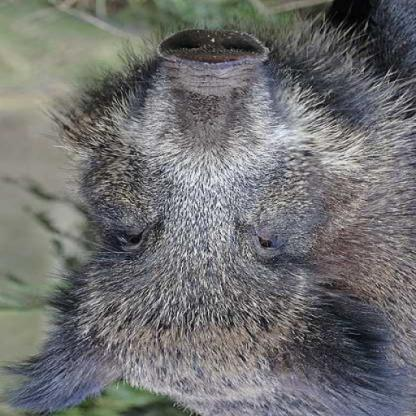boar: (0, 1, 408, 416)
